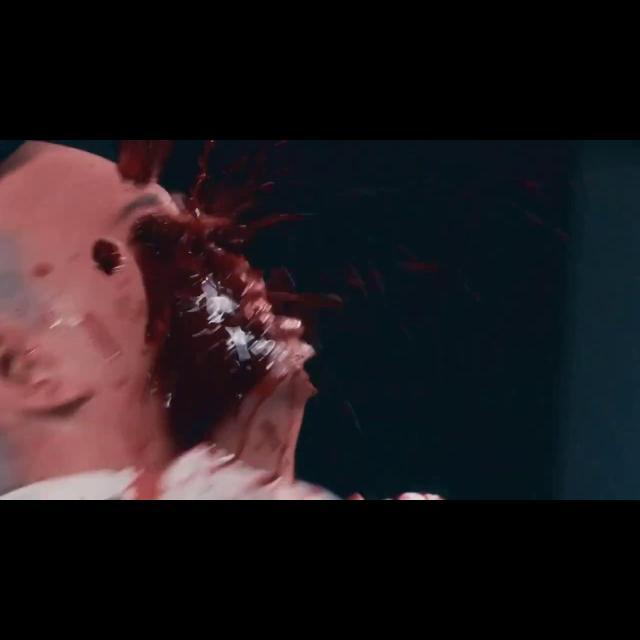blood: (30, 140, 452, 500)
